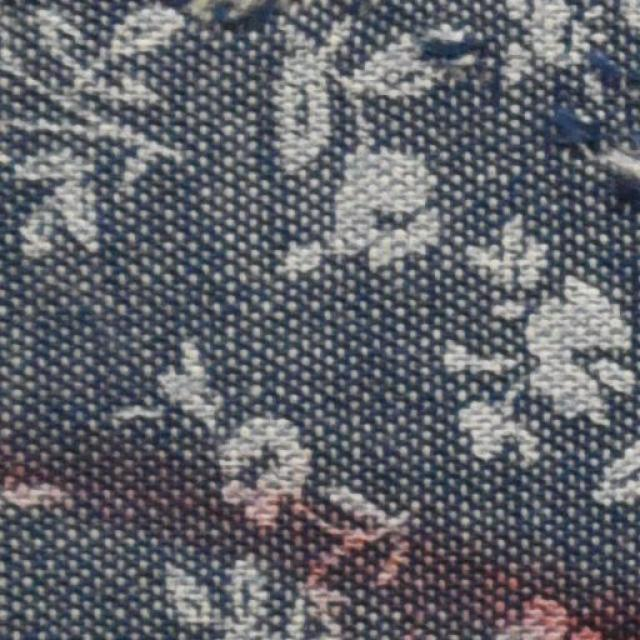Snag: (548, 35, 639, 203), (397, 21, 503, 76), (205, 3, 295, 51)
Stain: (0, 448, 639, 639)
